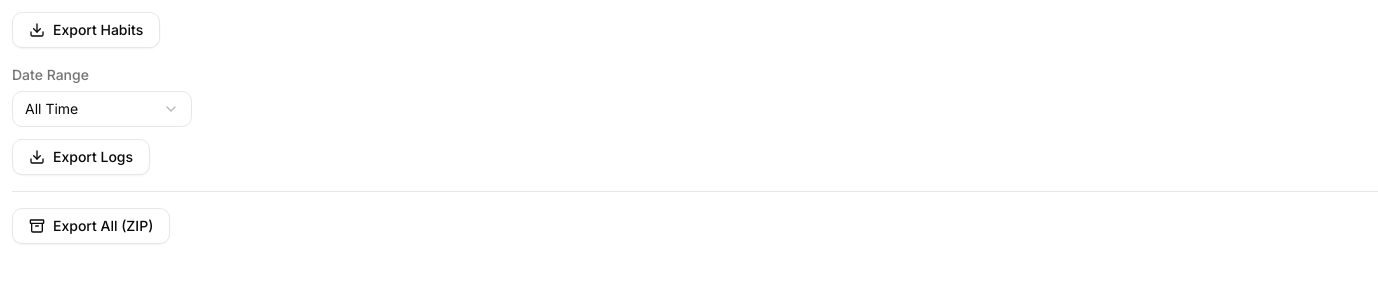
Scenario: DataExport › loading state › disables both buttons while exporting
Click the button "Export Habits" at [86, 30], box x1=12 y1=12 x2=160 y2=48
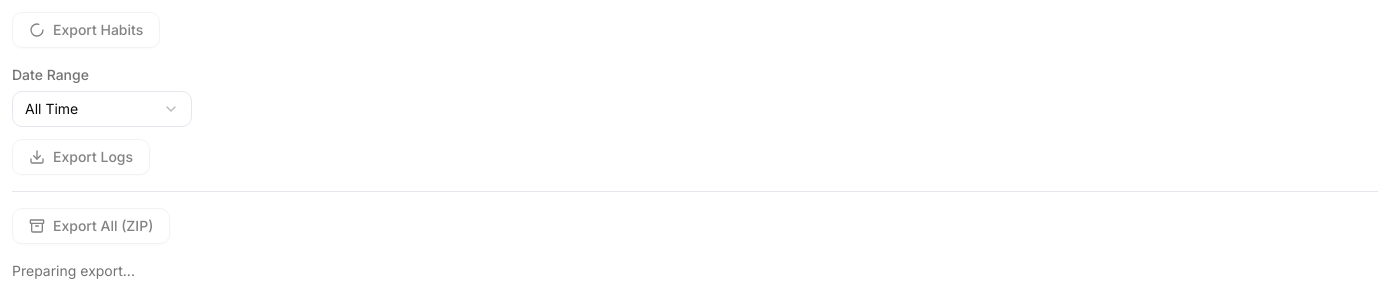
expect the button "Export Habits" is disabled: met, box x1=12 y1=12 x2=160 y2=48
expect the button "Export Logs" is disabled: met, box x1=12 y1=139 x2=150 y2=175
expect the button "Export All (ZIP)" is disabled: met, box x1=12 y1=208 x2=170 y2=244
